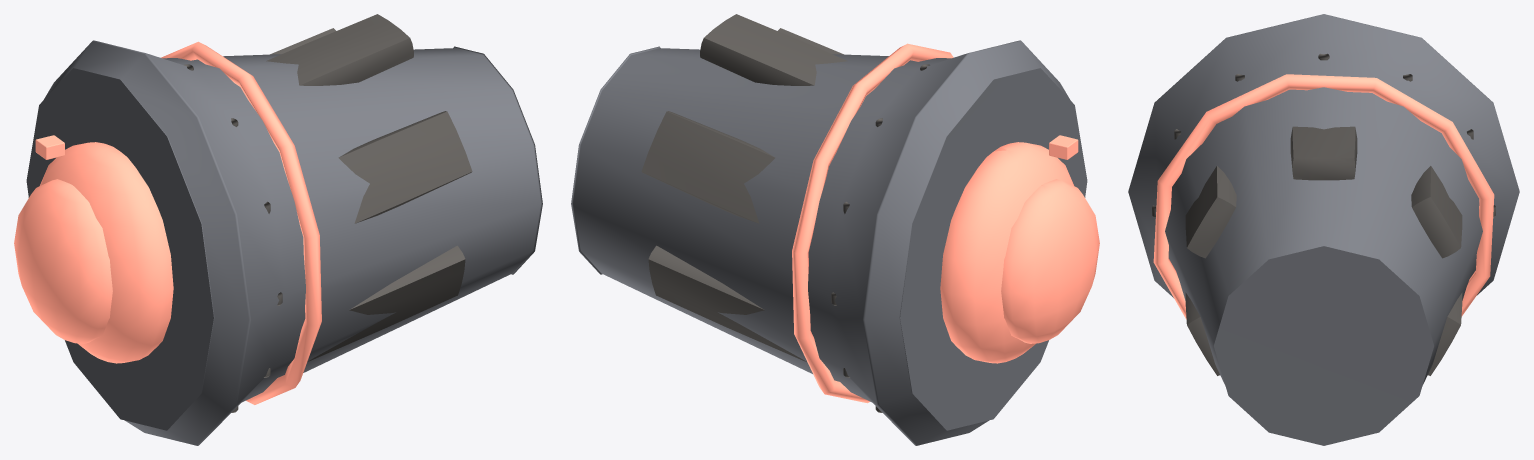
3 views of the same model, side by side, from view 1: azimuth 30°, elevation 25°; view 2: azimuth 150°, elevation 25°; view 3: azimuth 270°, elevation 25° (orthographic). The views are drawn at different scales.
Parts seen in each view (by area): view 1: LOD0_ENGINE_RESONATOR_MAIN, engine_resonator_Material_Mechanical_Merged, HOOK_DRIVE_CORE, HOOK_DRIVE_PLUME, HOOK_DRIVE_FAN, DET_resonance_port; view 2: LOD0_ENGINE_RESONATOR_MAIN, engine_resonator_Material_Mechanical_Merged, HOOK_DRIVE_CORE, HOOK_DRIVE_PLUME, HOOK_DRIVE_FAN, DET_resonance_port; view 3: LOD0_ENGINE_RESONATOR_MAIN, engine_resonator_Material_Mechanical_Merged, HOOK_DRIVE_FAN.
Part boxes in pixels (bbox=[...]): LOD0_ENGINE_RESONATOR_MAIN: bbox=[26, 40, 542, 445]; engine_resonator_Material_Mechanical_Merged: bbox=[184, 14, 472, 412]; HOOK_DRIVE_CORE: bbox=[40, 142, 173, 363]; HOOK_DRIVE_PLUME: bbox=[14, 179, 112, 343]; HOOK_DRIVE_FAN: bbox=[161, 41, 321, 404]; DET_resonance_port: bbox=[35, 135, 64, 159]; LOD0_ENGINE_RESONATOR_MAIN: bbox=[571, 40, 1087, 445]; engine_resonator_Material_Mechanical_Merged: bbox=[641, 14, 929, 412]; HOOK_DRIVE_CORE: bbox=[940, 142, 1073, 363]; HOOK_DRIVE_PLUME: bbox=[1001, 179, 1099, 343]; HOOK_DRIVE_FAN: bbox=[792, 43, 953, 403]; DET_resonance_port: bbox=[1049, 135, 1078, 159]; LOD0_ENGINE_RESONATOR_MAIN: bbox=[1128, 14, 1519, 445]; engine_resonator_Material_Mechanical_Merged: bbox=[1152, 53, 1495, 375]; HOOK_DRIVE_FAN: bbox=[1153, 74, 1494, 319].
Bounding box in the file's own units: 3.23 × 2.59 × 2.59.
